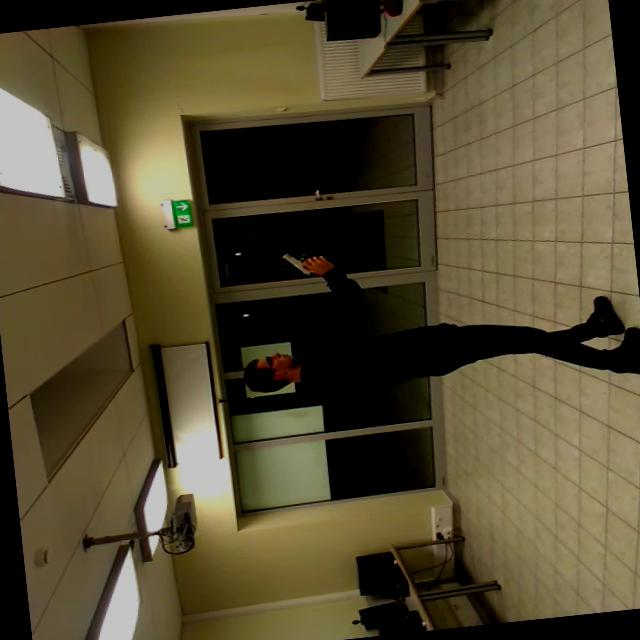handgun: (272, 238, 342, 284)
